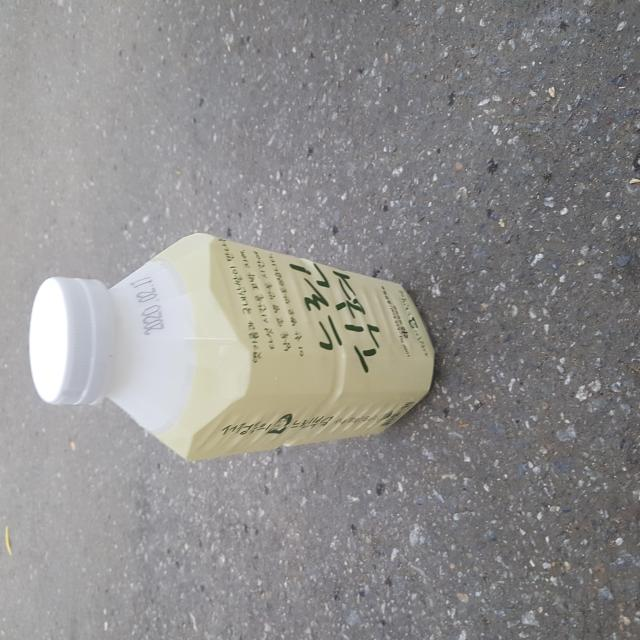bottle: (21, 224, 442, 470)
